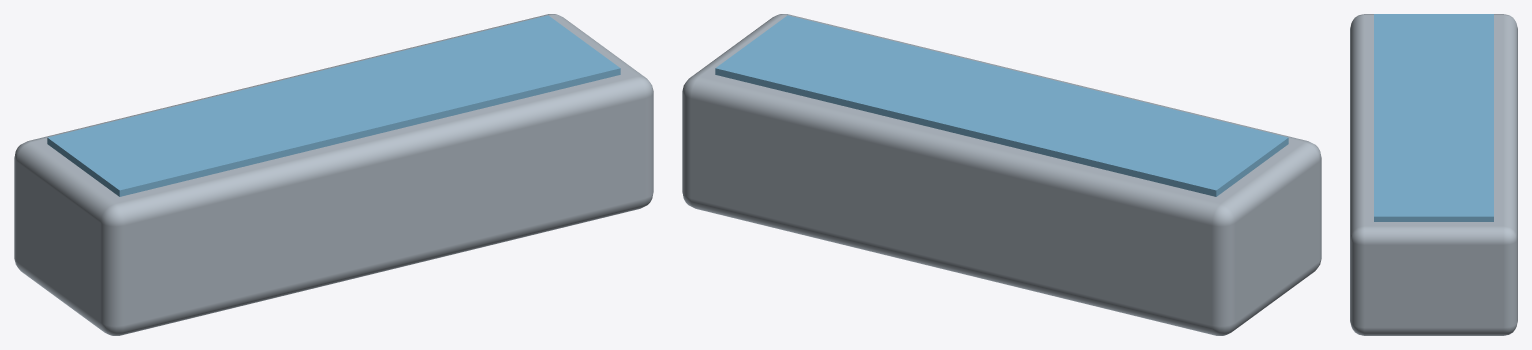
Rendered from comedero.glb.
3 views of the same model, side by side, from view 1: azimuth 30°, elevation 25°; view 2: azimuth 150°, elevation 25°; view 3: azimuth 270°, elevation 25° (orthographic). The views are drawn at different scales.
Bounding box in the file's own units: 2.2 × 0.525 × 0.7.
